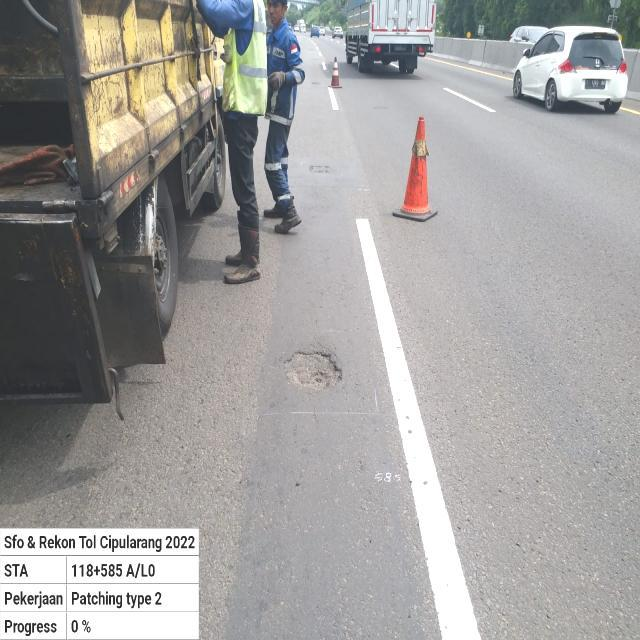Buraco: (279, 349, 346, 395)
